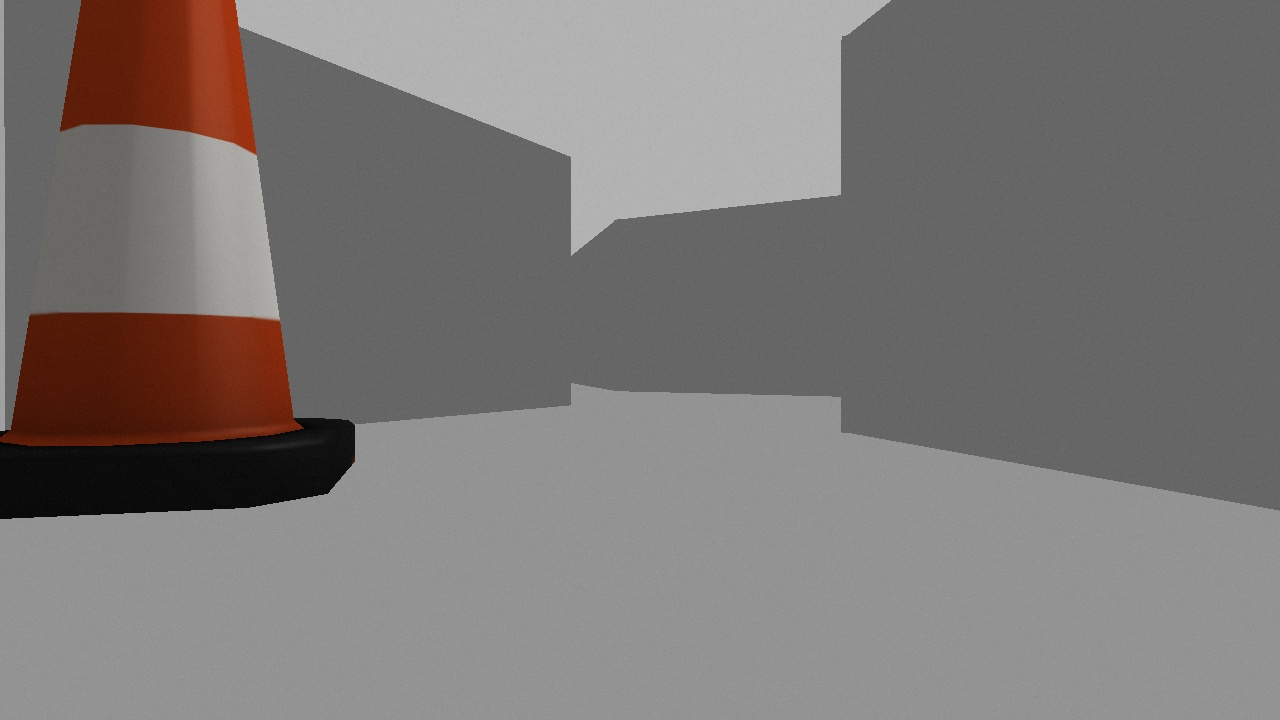barricade: (1, 1, 356, 521)
